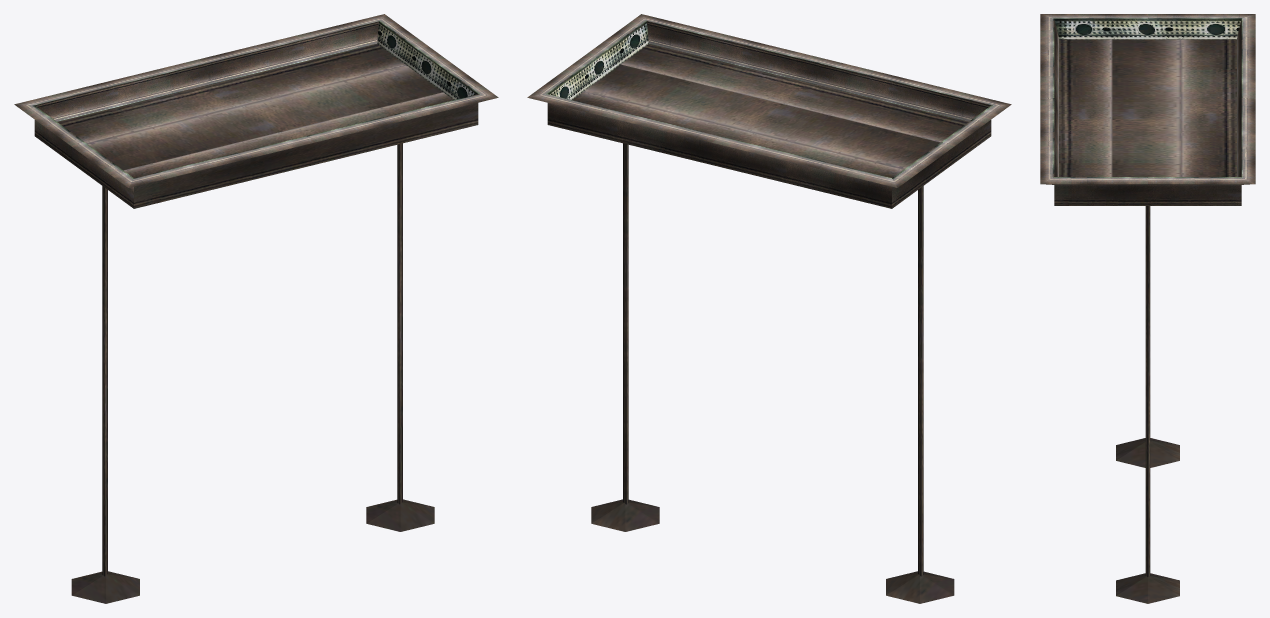
File: 2m_hangflo_sl1.fbx
The picture shows the model from 3 angles, left to right: view 1: azimuth 30°, elevation 25°; view 2: azimuth 150°, elevation 25°; view 3: azimuth 270°, elevation 25°; orthographic projection. The views are drawn at different scales.
Parts seen in each view (by area): view 1: mesh_2, mesh_0, mesh_1; view 2: mesh_2, mesh_0, mesh_1; view 3: mesh_2, mesh_1, mesh_0.
Boxes of the visible parts, bbox=[...] form: mesh_2: bbox=[14, 14, 498, 208]; mesh_0: bbox=[102, 143, 402, 576]; mesh_1: bbox=[71, 499, 434, 603]; mesh_2: bbox=[527, 14, 1011, 208]; mesh_0: bbox=[623, 143, 923, 576]; mesh_1: bbox=[591, 499, 954, 603]; mesh_2: bbox=[1040, 14, 1255, 205]; mesh_1: bbox=[1116, 438, 1179, 603]; mesh_0: bbox=[1145, 206, 1150, 576].
Bounding box in the file's own units: 172 × 200 × 92.
1 material, 1 textured.
